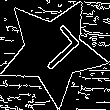L_SW: (24, 23, 82, 79)
